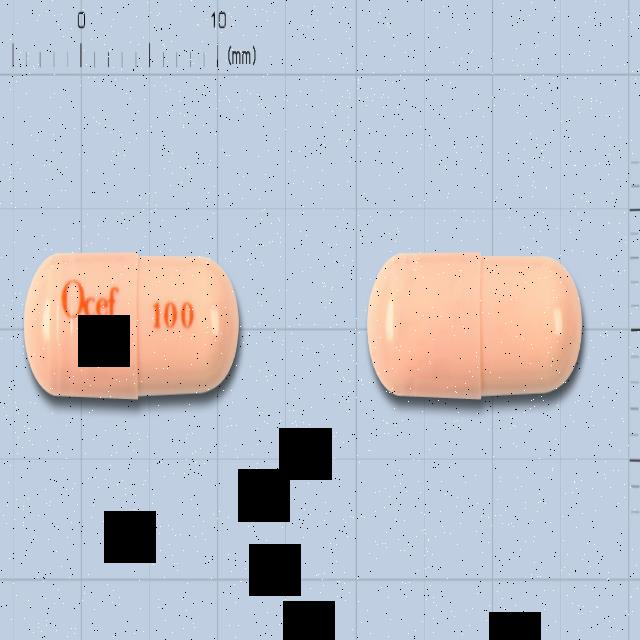Omnicef Cap: (23, 251, 240, 402)
